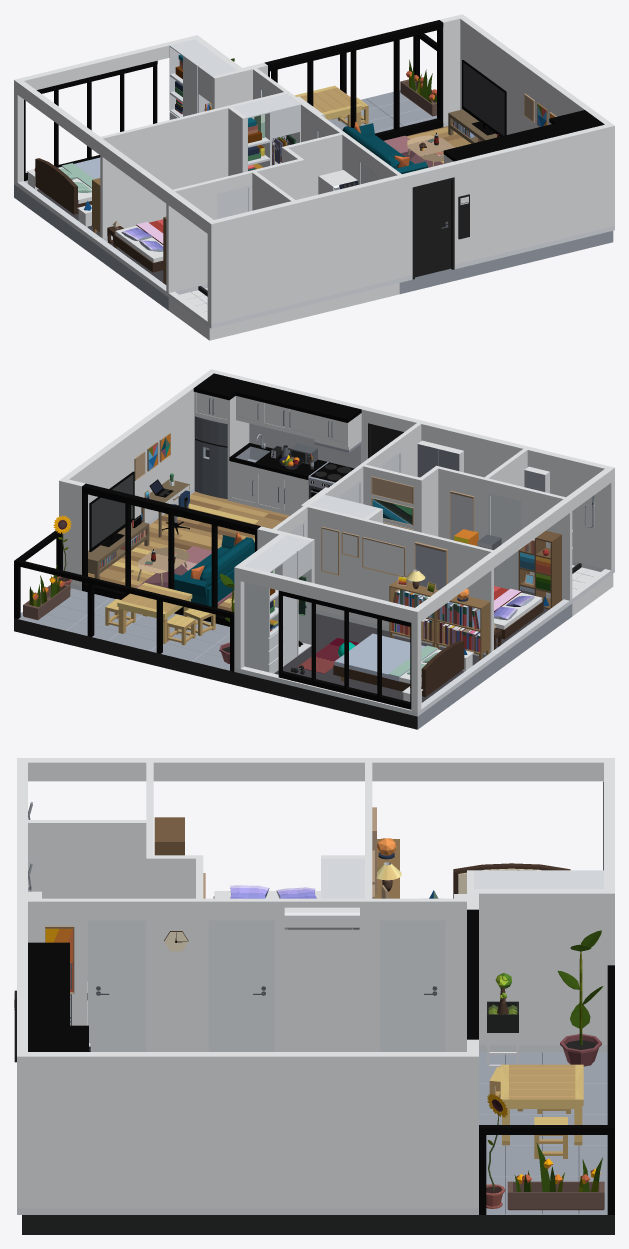
File: house_mvp.glb
The picture shows the model from 3 angles, top to bottom: view 1: azimuth 30°, elevation 25°; view 2: azimuth 150°, elevation 25°; view 3: azimuth 270°, elevation 25°; orthographic projection. The views are drawn at different scales.
Visible parts, largest first — view 1: Level_1_Unit_1, Building_Window.001, Building_Door_Main.001, Building_Closet, Building_Closet.002, Building_Floor_Toilet.001, Building_Floor_Living.001, Building_Floor.001, Accesories_Kitchen, Accesories_TV, Accesories_Bed_A, Building_Window_Bed.001 (+13 smaller); view 2: Level_1_Unit_1, Accesories_Kitchen, Building_Floor_Balcony.011, Building_Floor.001, Building_Closet, Building_Floor_Living.001, Building_Window.001, Accesories_Bed_A, Building_Balcony_Fence.001, Building_Window_Bed.001, Accesories_Sofa_Large, Accesories_Fridge (+28 smaller); view 3: Level_1_Unit_1, Building_Floor_Balcony.011, Building_Floor_Living.001, Building_Door_Bed_A.001, Building_Door_Bed_B.001, Building_Door_Toilet_A.001, Accesories_Kitchen, Accesories_Table_Outdoor.005, Building_Balcony_Fence.001, Accesories_Plants_B, Building_Closet, Accesories_Plants_D (+10 smaller).
Boxes of the visible parts, left/top/right/bottom form: Level_1_Unit_1: left=14, top=14, right=614, bottom=328; Building_Window.001: left=264, top=20, right=443, bottom=140; Building_Door_Main.001: left=412, top=177, right=469, bottom=279; Building_Closet: left=169, top=39, right=236, bottom=119; Building_Closet.002: left=233, top=94, right=300, bottom=171; Building_Floor_Toilet.001: left=168, top=283, right=399, bottom=340; Building_Floor_Living.001: left=399, top=126, right=613, bottom=294; Building_Floor.001: left=14, top=184, right=168, bottom=310; Accesories_Kitchen: left=443, top=110, right=604, bottom=163; Accesories_TV: left=462, top=60, right=506, bottom=136; Accesories_Bed_A: left=35, top=157, right=100, bottom=215; Building_Window_Bed.001: left=24, top=60, right=157, bottom=180; Level_1_Unit_1: left=59, top=369, right=614, bottom=716; Accesories_Kitchen: left=193, top=373, right=361, bottom=515; Building_Floor_Balcony.011: left=14, top=588, right=234, bottom=684; Building_Floor.001: left=234, top=604, right=572, bottom=729; Building_Closet: left=244, top=535, right=311, bottom=673; Building_Floor_Living.001: left=88, top=491, right=289, bottom=611; Building_Window.001: left=82, top=483, right=260, bottom=626; Accesories_Bed_A: left=333, top=633, right=464, bottom=696; Building_Balcony_Fence.001: left=14, top=530, right=234, bottom=671; Building_Window_Bed.001: left=278, top=590, right=411, bottom=709; Accesories_Sofa_Large: left=174, top=532, right=254, bottom=606; Accesories_Fridge: left=194, top=416, right=227, bottom=499; Level_1_Unit_1: left=17, top=758, right=614, bottom=1214; Building_Floor_Balcony.011: left=479, top=1052, right=614, bottom=1234; Building_Floor_Living.001: left=22, top=1215, right=478, bottom=1234; Building_Door_Bed_A.001: left=379, top=920, right=445, bottom=1051; Building_Door_Bed_B.001: left=208, top=920, right=274, bottom=1051; Building_Door_Toilet_A.001: left=87, top=920, right=146, bottom=1051; Accesories_Kitchen: left=28, top=942, right=91, bottom=1051; Accesories_Table_Outdoor.005: left=500, top=1064, right=583, bottom=1145; Building_Balcony_Fence.001: left=479, top=965, right=614, bottom=1214; Accesories_Plants_B: left=507, top=1142, right=604, bottom=1210; Building_Closet: left=474, top=870, right=603, bottom=888; Accesories_Plants_D: left=558, top=930, right=603, bottom=1066.
Size of the model in its own units: 9.62 by 2.68 by 8.18.
1 material, 1 textured.
